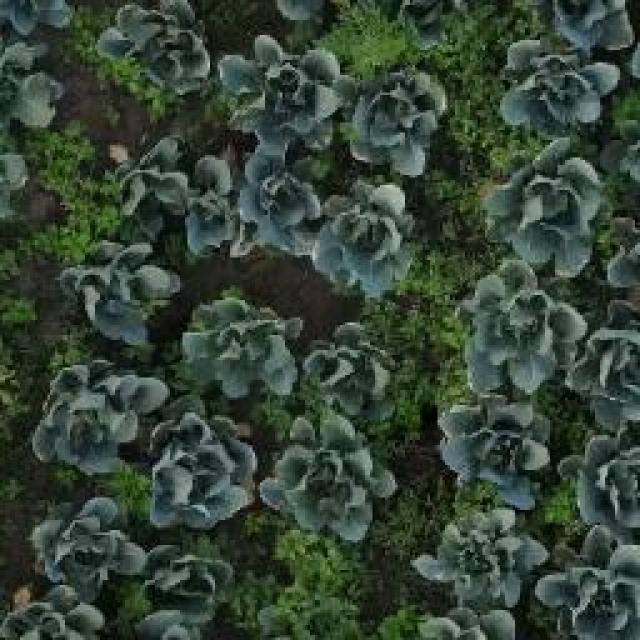cabbage: (447, 255, 580, 393), (265, 415, 401, 546), (483, 138, 607, 276), (32, 358, 169, 476), (431, 391, 558, 514), (144, 408, 260, 532), (493, 29, 624, 133), (218, 35, 344, 143), (316, 172, 422, 299), (178, 290, 295, 402), (66, 236, 186, 345), (340, 60, 451, 177), (418, 502, 544, 605), (232, 138, 328, 264), (120, 535, 235, 640), (29, 486, 146, 586), (533, 533, 640, 640), (99, 0, 213, 91), (107, 134, 190, 218), (179, 144, 240, 258), (316, 327, 396, 406)
